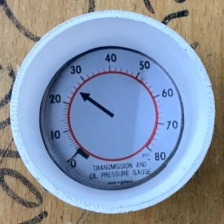gauge: (40, 45, 185, 190)
